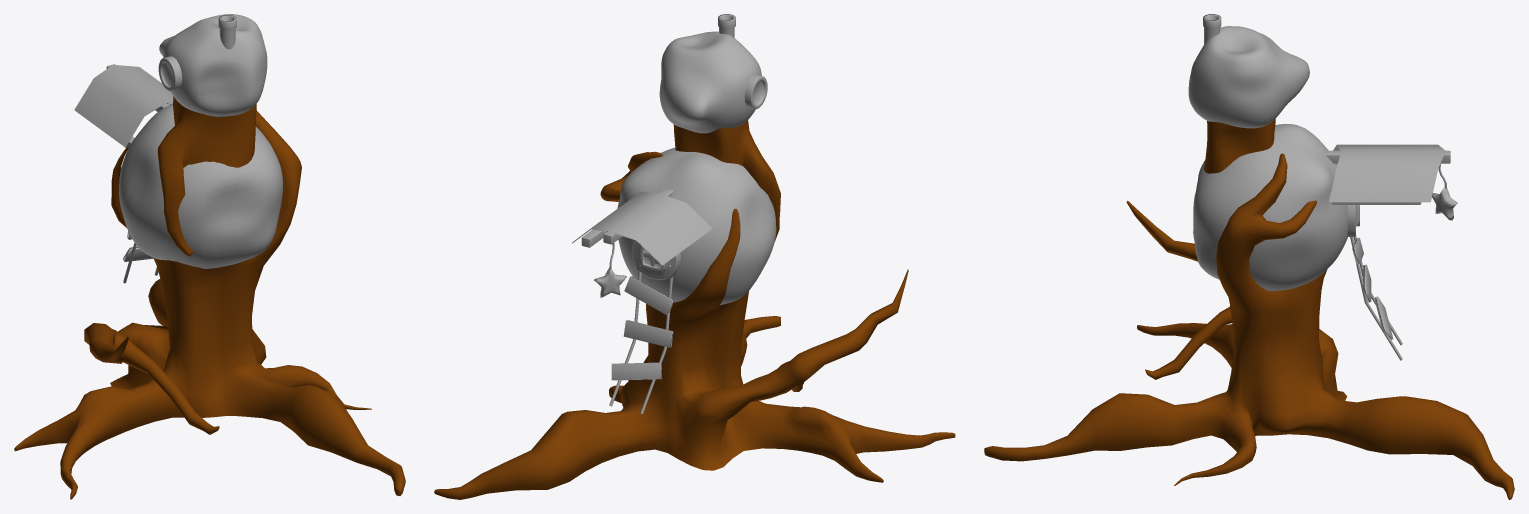
Rendered from TreeHouse.fbx.
3 renders of one model, left to right at view 1: azimuth 30°, elevation 25°; view 2: azimuth 150°, elevation 25°; view 3: azimuth 270°, elevation 25°, orthographic.
Parts seen in each view (by area): view 1: Tree, House; view 2: Tree, House; view 3: Tree, House.
Boxes of the visible parts, x1=… form: Tree: x1=14, y1=96, x2=405, y2=499; House: x1=74, y1=14, x2=282, y2=283; Tree: x1=434, y1=120, x2=955, y2=499; House: x1=572, y1=14, x2=776, y2=413; Tree: x1=984, y1=119, x2=1514, y2=499; House: x1=1188, y1=14, x2=1457, y2=360.
Bounding box in the file's own units: 7.36 × 8.41 × 9.87.
